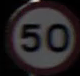Speed limit: (6, 4, 73, 64)
